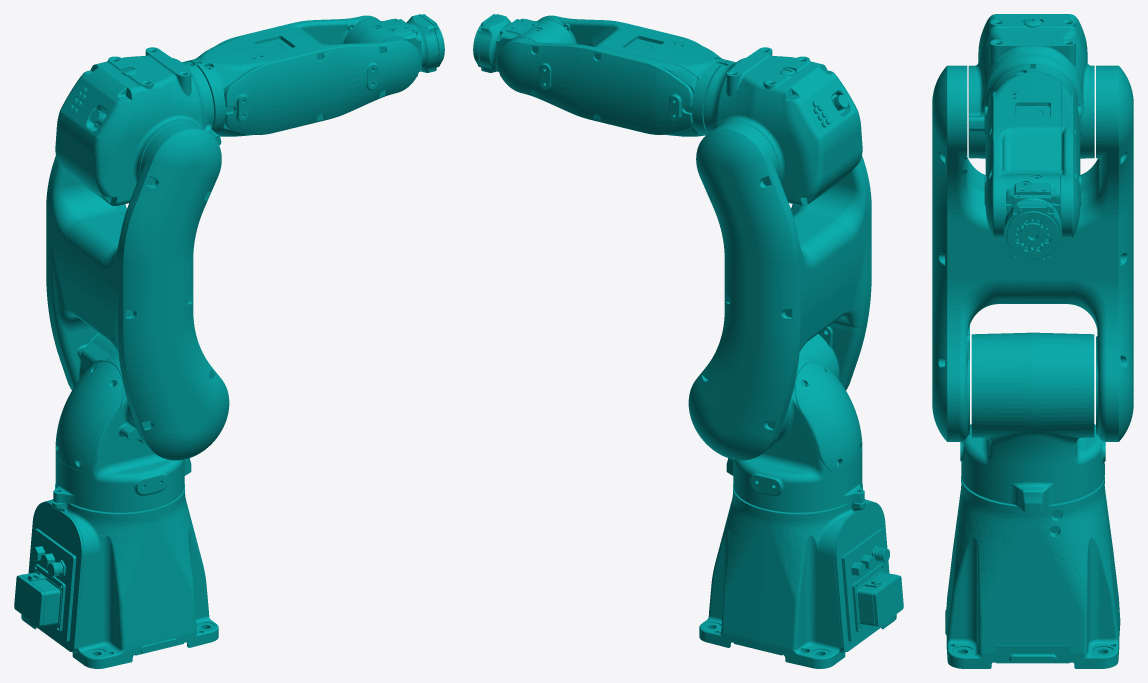
The model's file is RobotArm.fbx.
3 views of the same model, side by side, from view 1: azimuth 30°, elevation 25°; view 2: azimuth 150°, elevation 25°; view 3: azimuth 270°, elevation 25° (orthographic). The views are drawn at different scales.
Parts seen in each view (by area): view 1: 00_GP8_B_AXIS_ASM; view 2: 00_GP8_B_AXIS_ASM; view 3: 00_GP8_B_AXIS_ASM.
Boxes of the visible parts, x1,y1,x2,y2 form: 00_GP8_B_AXIS_ASM: (14,14,444,668); 00_GP8_B_AXIS_ASM: (473,14,903,668); 00_GP8_B_AXIS_ASM: (932,14,1133,668).
Size of the model in its own units: 59.73 by 77.82 by 23.
